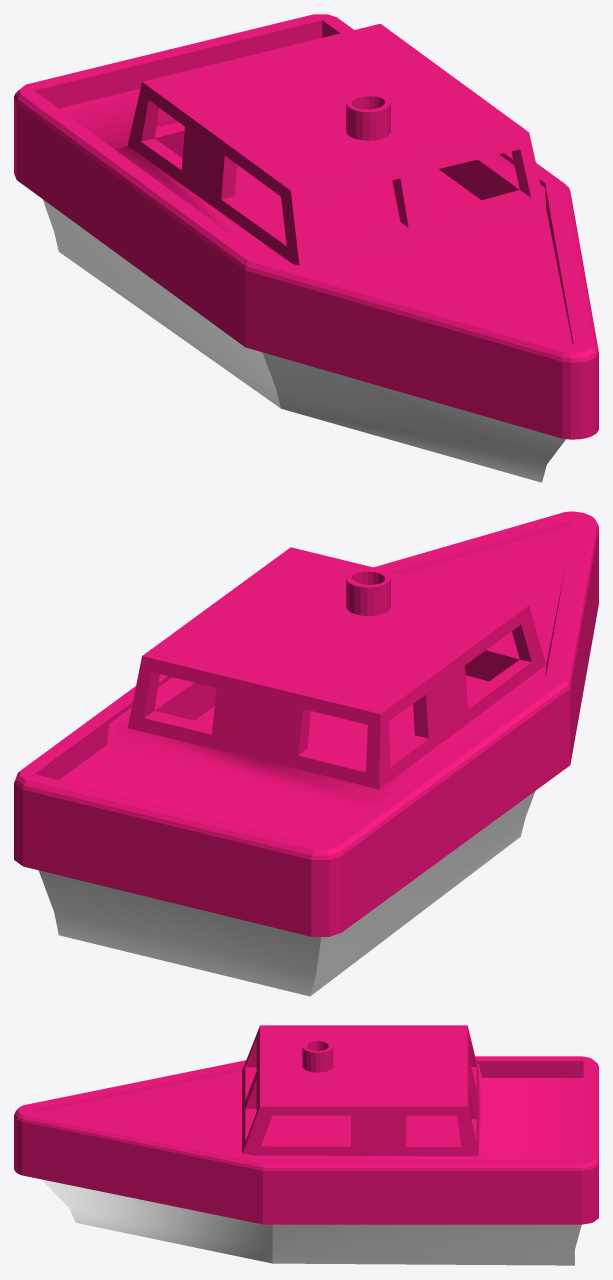
Rendered from Boat.FBX.
3 renders of one model, top to bottom at view 1: azimuth 30°, elevation 25°; view 2: azimuth 150°, elevation 25°; view 3: azimuth 270°, elevation 25°, orthographic. The views are drawn at different scales.
Parts seen in each view (by area): view 1: Boat Body; view 2: Boat Body; view 3: Boat Body.
Boxes of the visible parts, x1,y1,x2,y2 form: Boat Body: (14,14,598,482); Boat Body: (14,511,598,996); Boat Body: (14,1025,598,1265).
Size of the model in its own units: 40.69 by 90.81 by 30.25.
